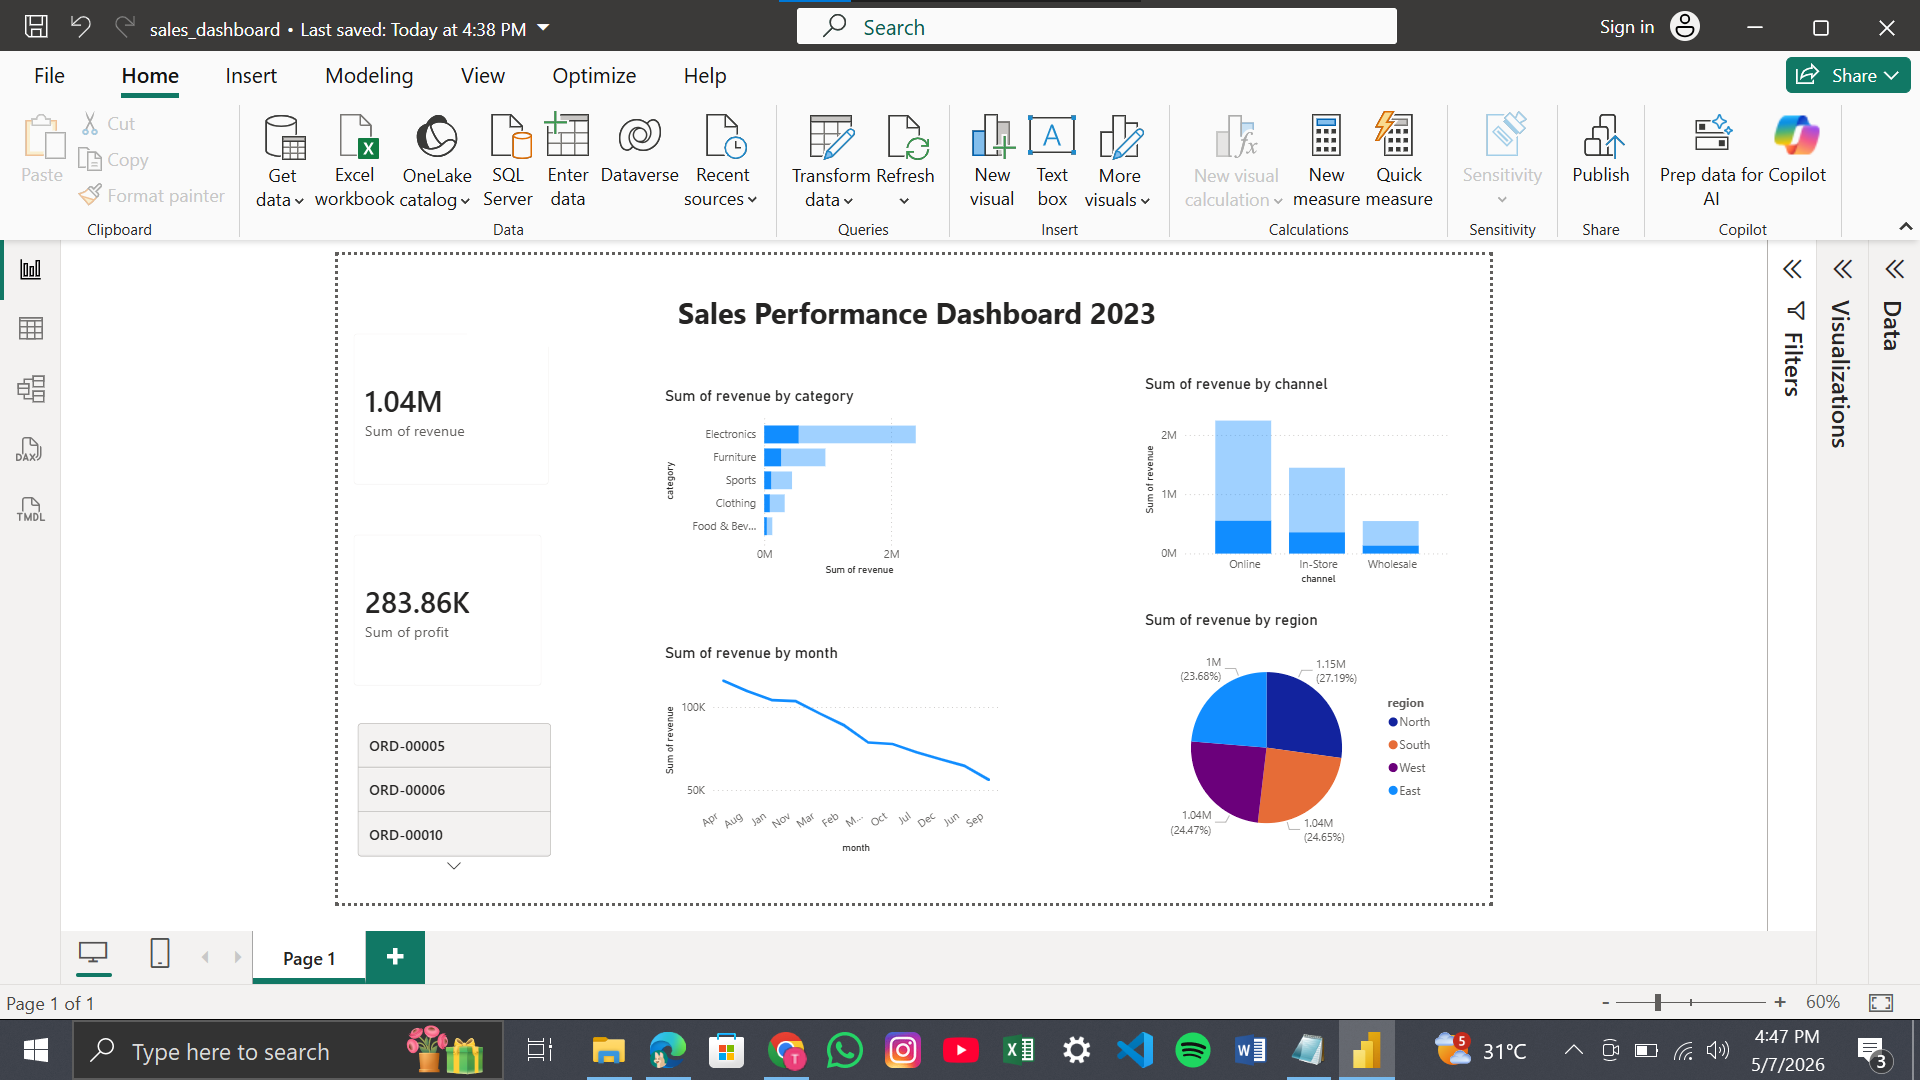

Layout of this report page (visuals, bound fields, positions):
{"tool":"powerbi","page":{"name":"Page 1","canvas":[1280,720],"ordinal":0},"visuals":[{"type":"cardVisual","fields":{"Data":["Sum(sales_data.revenue)"]},"box":[0,70,251.3,202],"z":0},{"type":"cardVisual","fields":{"Data":["Sum(sales_data.profit)"]},"box":[0,292.7,243.4,202],"z":1},{"type":"cardVisual","fields":{"Rows":["sales_data.order_id"]},"box":[17.5,494.7,225.9,198.8],"z":2},{"type":"lineChart","fields":{"Category":["sales_data.month"],"Y":["Sum(sales_data.revenue)"]},"box":[357.9,431.1,380.2,237],"z":3},{"type":"clusteredBarChart","fields":{"Category":["sales_data.category"],"Y":["Sum(sales_data.revenue)"]},"box":[357.9,146.3,340.4,213.1],"z":4},{"type":"pieChart","fields":{"Category":["sales_data.region"],"Y":["Sum(sales_data.revenue)"]},"box":[892.3,394.5,340.4,284.7],"z":5},{"type":"clusteredColumnChart","fields":{"Category":["sales_data.channel"],"Y":["Sum(sales_data.revenue)"]},"box":[892.3,133.6,349.9,237],"z":6},{"type":"textbox","box":[143.2,36.6,1110.2,65.2],"z":7}]}

Visuals, with their boxes on the page's 1280x720 design canvas (x1, y1, x2, y2). These are canvas units, not pixel positions in the 1920x1080 screenshot, which may show the page scaled, cropped or inside an application window:
cardVisual - Sum(sales_data.revenue): x1=0, y1=70, x2=251, y2=272
cardVisual - Sum(sales_data.profit): x1=0, y1=293, x2=243, y2=495
cardVisual - sales_data.order_id: x1=18, y1=495, x2=243, y2=694
lineChart - sales_data.month x Sum(sales_data.revenue): x1=358, y1=431, x2=738, y2=668
clusteredBarChart - sales_data.category x Sum(sales_data.revenue): x1=358, y1=146, x2=698, y2=359
pieChart - sales_data.region x Sum(sales_data.revenue): x1=892, y1=394, x2=1233, y2=679
clusteredColumnChart - sales_data.channel x Sum(sales_data.revenue): x1=892, y1=134, x2=1242, y2=371
textbox: x1=143, y1=37, x2=1253, y2=102
